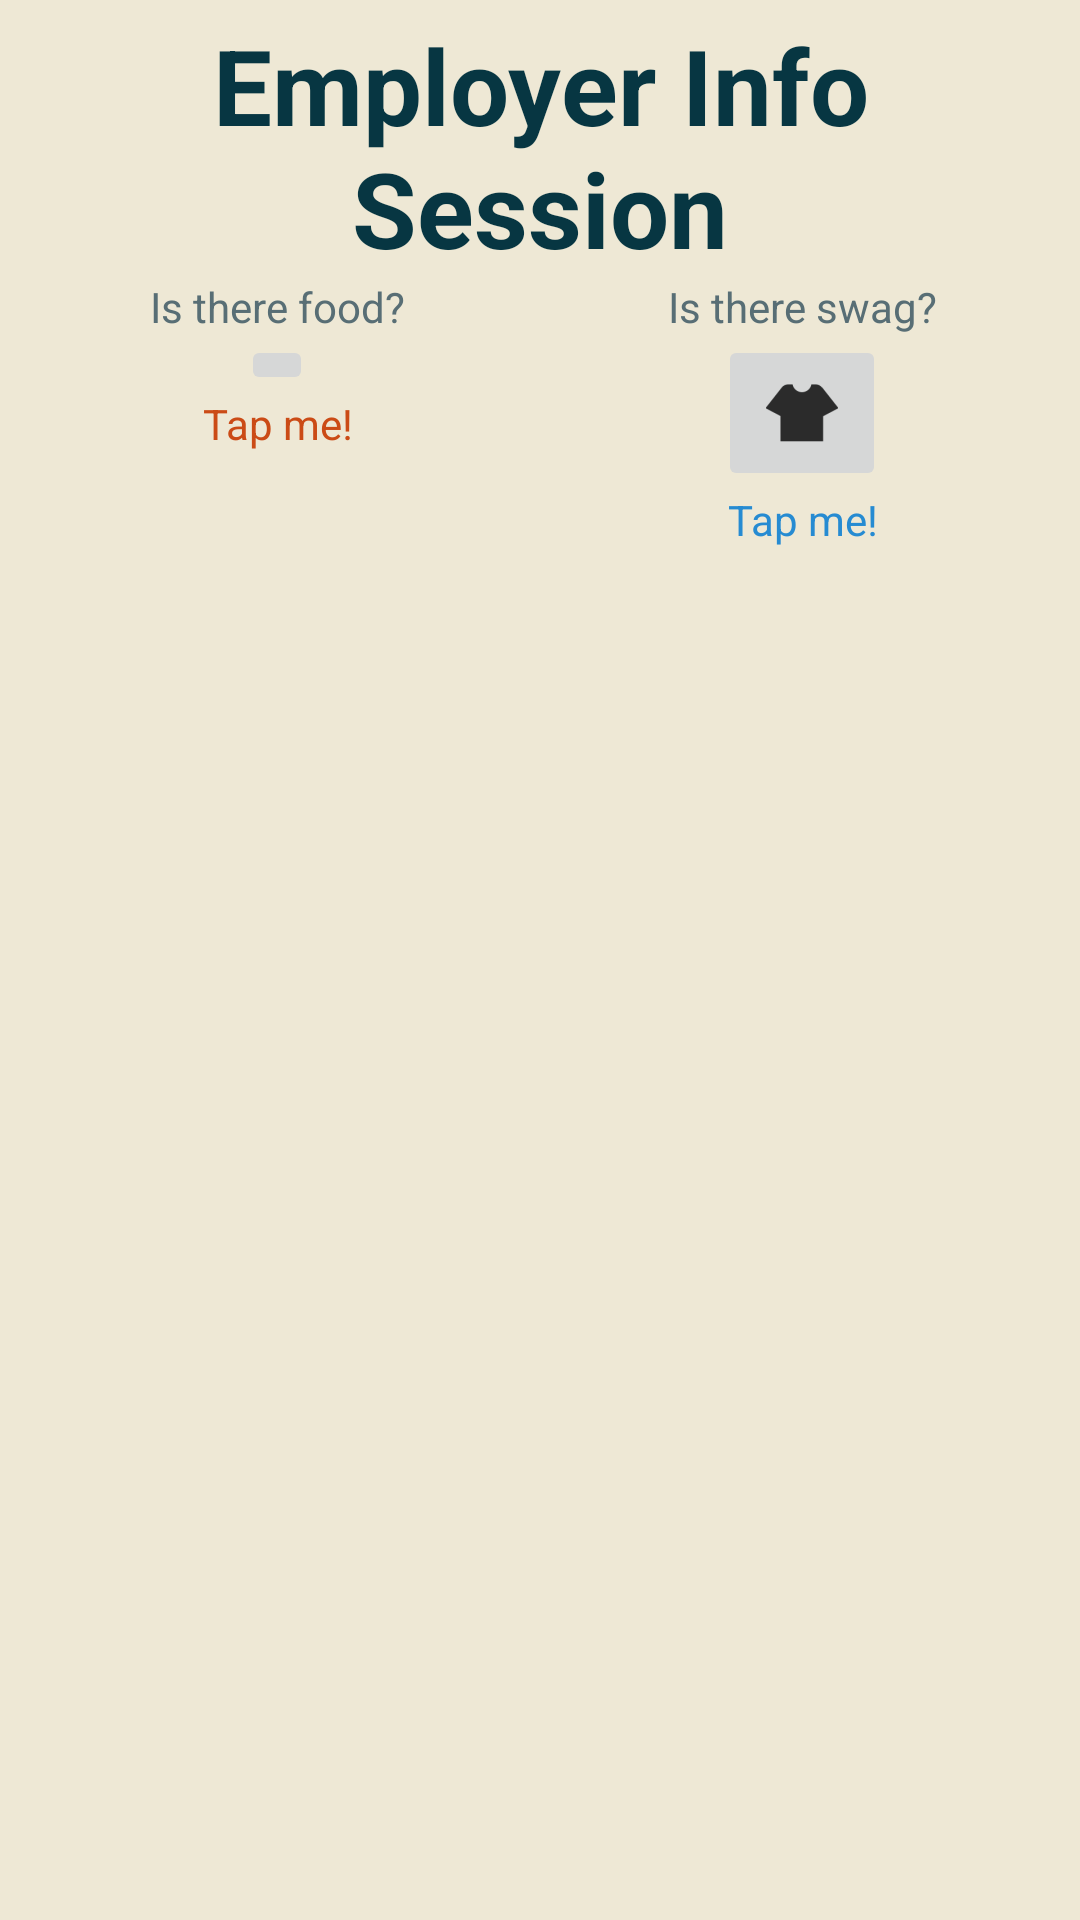

Icon click points for this 1080px x 1920px phone screenshot, format [x,y]:
fashion: [802,413]
